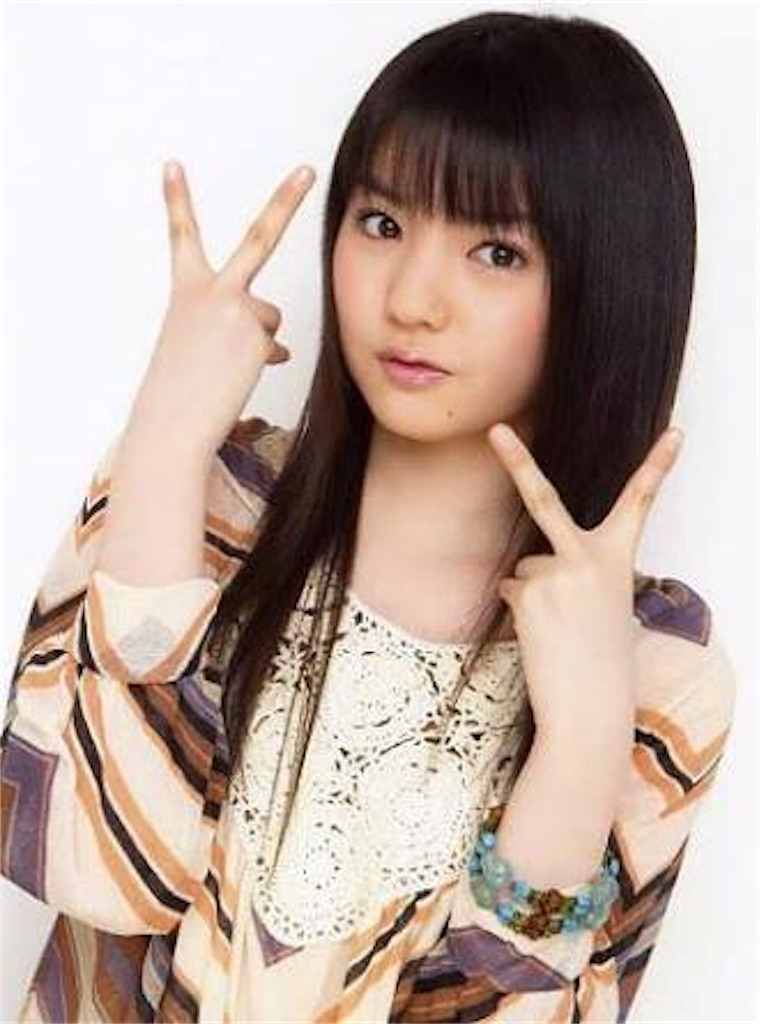face: (330, 121, 555, 442)
hand: (487, 423, 690, 740), (116, 154, 316, 451)
